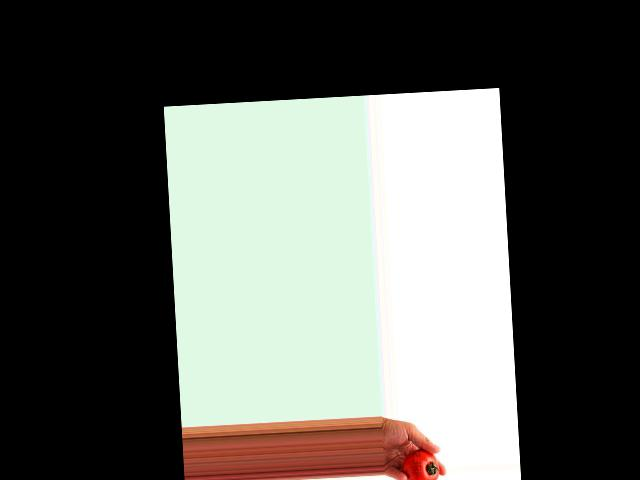tomato: (401, 448, 440, 480)
